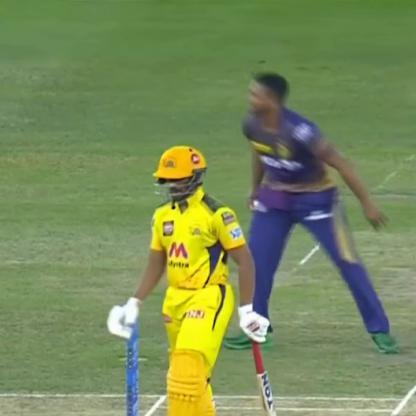ball: (242, 198, 262, 212)
